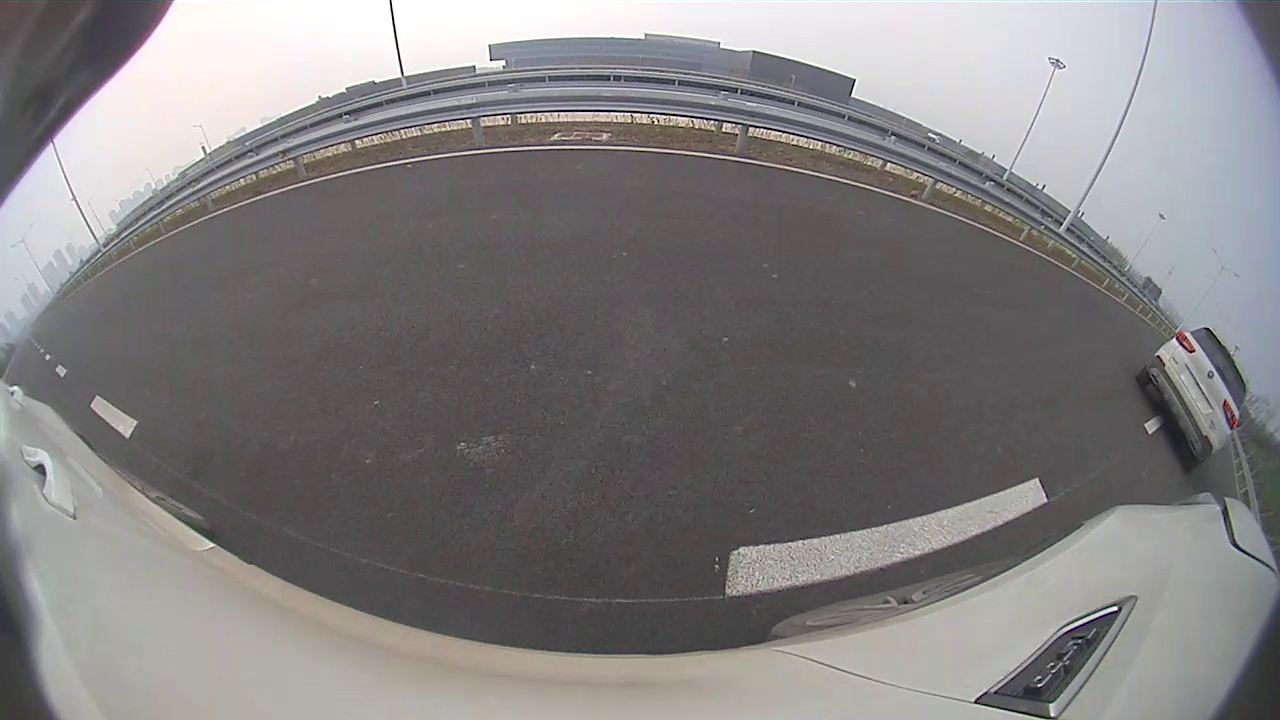car: (1136, 325, 1250, 469)
